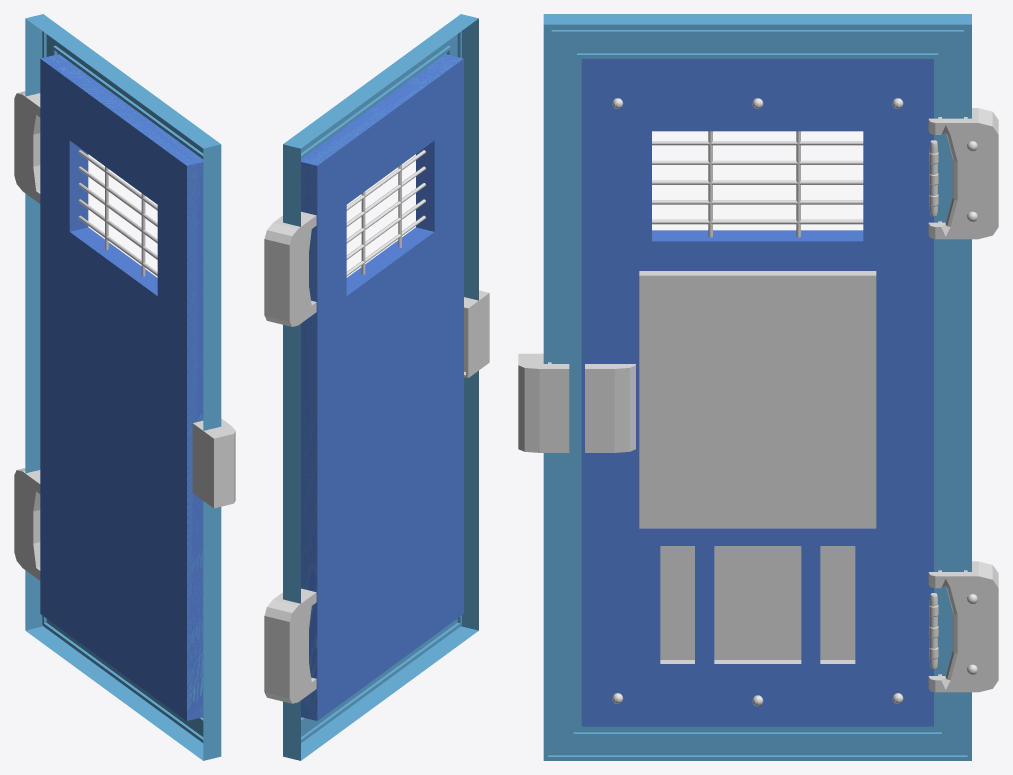
Rendered from FacilityDoor.fbx.
The picture shows the model from 3 angles, left to right: view 1: azimuth 30°, elevation 25°; view 2: azimuth 150°, elevation 25°; view 3: azimuth 270°, elevation 25°; orthographic projection. The views are drawn at different scales.
Visible parts, largest first — view 1: Door, Frame, Holder, Lock, HorizontalBar, VerticalBar; view 2: Door, Frame, Holder, HorizontalBar, Lock, VerticalBar; view 3: Door, Frame, DoorSlab, Holder, HorizontalBar, Lock, DoorLock, HolderBar, VerticalBar.
Part boxes in pixels (bbox=[...]): Door: bbox=[40, 54, 203, 720]; Frame: bbox=[25, 14, 221, 760]; Holder: bbox=[14, 91, 40, 580]; Lock: bbox=[192, 418, 235, 508]; HorizontalBar: bbox=[78, 150, 157, 276]; VerticalBar: bbox=[105, 166, 145, 276]; Door: bbox=[301, 54, 463, 720]; Frame: bbox=[283, 14, 478, 760]; Holder: bbox=[264, 211, 316, 703]; HorizontalBar: bbox=[346, 150, 425, 276]; Lock: bbox=[464, 290, 489, 377]; VerticalBar: bbox=[361, 164, 401, 274]; Door: bbox=[581, 59, 933, 726]; Frame: bbox=[543, 14, 971, 760]; DoorSlab: bbox=[639, 271, 876, 528]; Holder: bbox=[928, 108, 998, 692]; HorizontalBar: bbox=[652, 141, 863, 224]; Lock: bbox=[518, 353, 569, 452]; DoorLock: bbox=[585, 364, 635, 452]; HolderBar: bbox=[929, 140, 938, 669]; VerticalBar: bbox=[708, 131, 800, 237].
Bounding box in the file's own units: 10.34 × 203 × 120.
